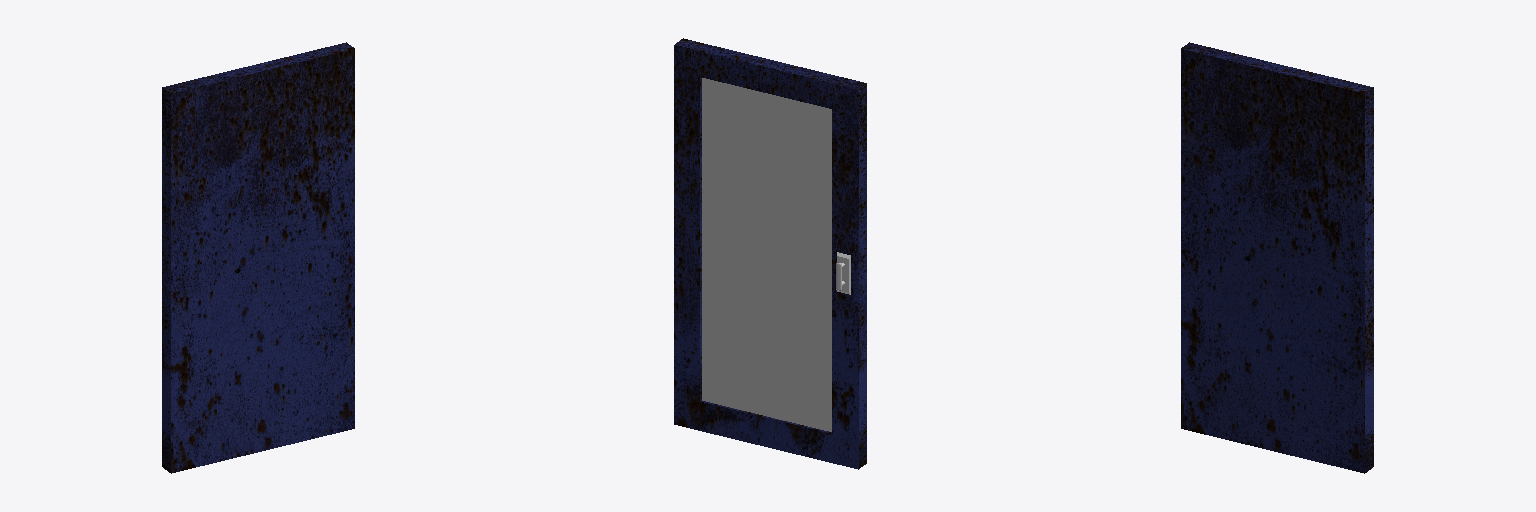
3 renders of one model, left to right at view 1: azimuth 30°, elevation 25°; view 2: azimuth 150°, elevation 25°; view 3: azimuth 330°, elevation 25°, orthographic.
Visible parts, largest first — view 1: Cube; view 2: Plane, Cube, Cube.001; view 3: Cube.
Part boxes in pixels (bbox=[...]): Cube: bbox=[162, 42, 354, 473]; Plane: bbox=[702, 78, 831, 431]; Cube: bbox=[674, 38, 866, 469]; Cube.001: bbox=[836, 252, 850, 294]; Cube: bbox=[1181, 42, 1373, 473].
Size of the model in its own units: 2.39 by 4.71 by 0.3198.
Materials: 3 (1 with a texture image).